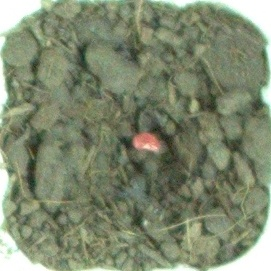chilli seed: (129, 128, 166, 156)
